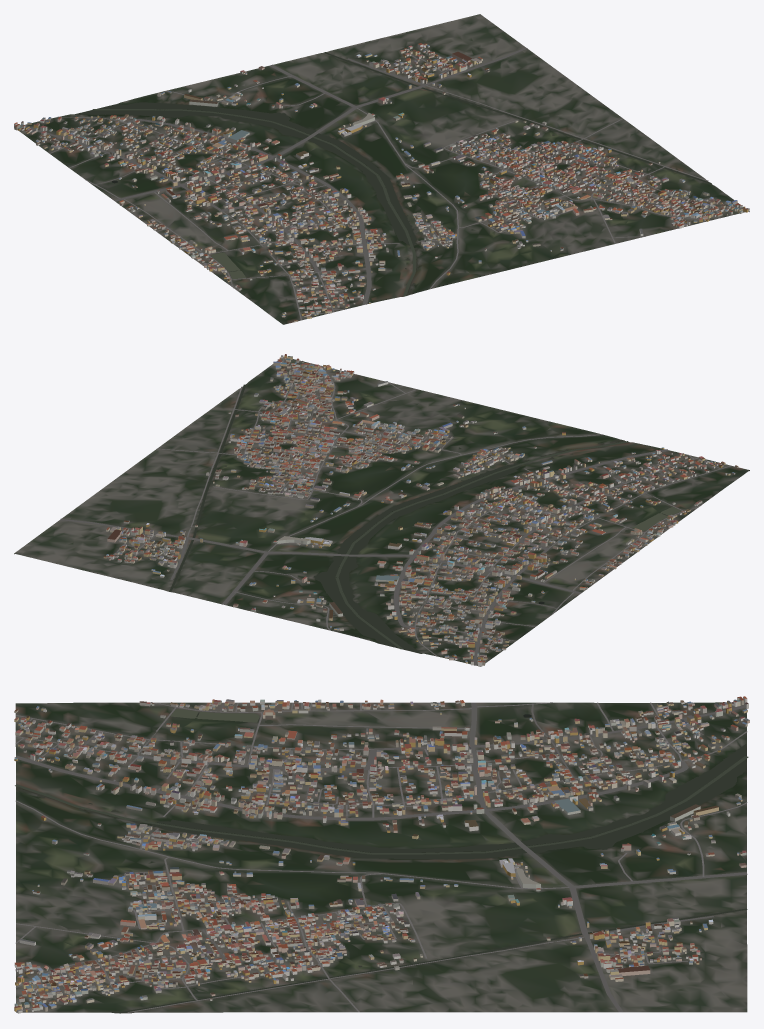
The picture shows the model from 3 angles, top to bottom: view 1: azimuth 30°, elevation 25°; view 2: azimuth 150°, elevation 25°; view 3: azimuth 270°, elevation 25°; orthographic projection. The views are drawn at different scales.
Parts seen in each view (by area): view 1: ground, buildings, roads, water; view 2: ground, buildings, roads, water; view 3: ground, buildings, roads, water.
Part boxes in pixels (x1=…): ground: x1=19, y1=14, x2=749, y2=324; buildings: x1=14, y1=43, x2=749, y2=322; roads: x1=25, y1=47, x2=748, y2=320; water: x1=74, y1=52, x2=711, y2=296; ground: x1=14, y1=358, x2=749, y2=666; buildings: x1=103, y1=354, x2=738, y2=666; roads: x1=60, y1=356, x2=731, y2=665; water: x1=169, y1=384, x2=681, y2=653; ground: x1=15, y1=702, x2=747, y2=1013; buildings: x1=14, y1=696, x2=749, y2=1013; roads: x1=14, y1=702, x2=747, y2=1012; water: x1=15, y1=709, x2=748, y2=1013.
Bounding box in the file's own units: 1412 × 25.38 × 1411.
